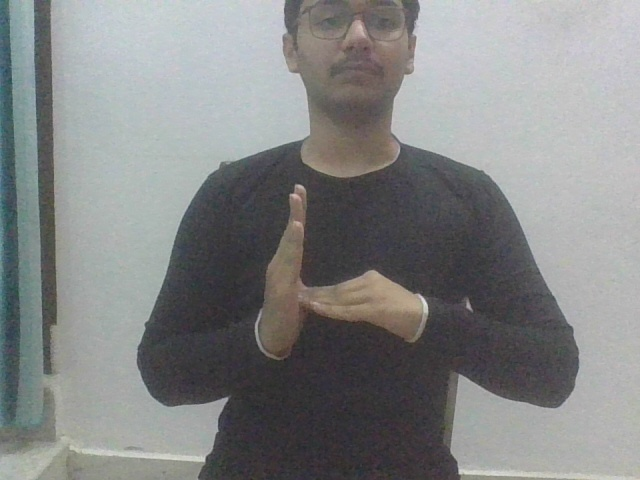Z: (253, 179, 434, 363)
